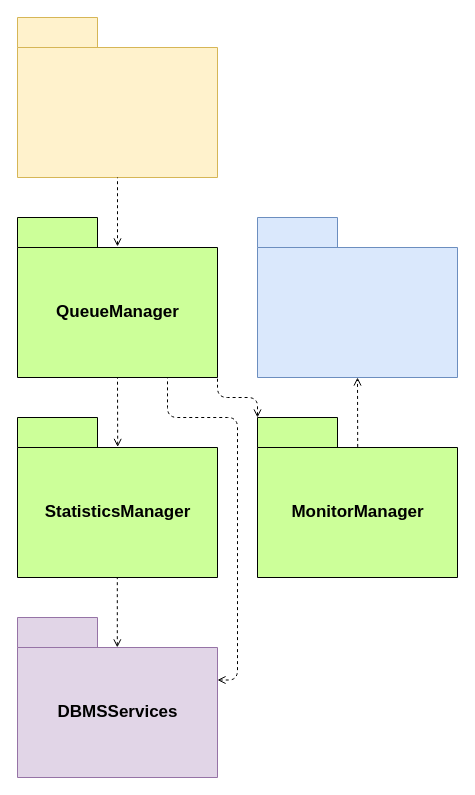
Image size: 475x795. Some labels were removed from this diagram. Each missing label, with the box of its shape:
Driver: (16, 16, 218, 178)
StoreMonitor: (256, 216, 458, 378)
